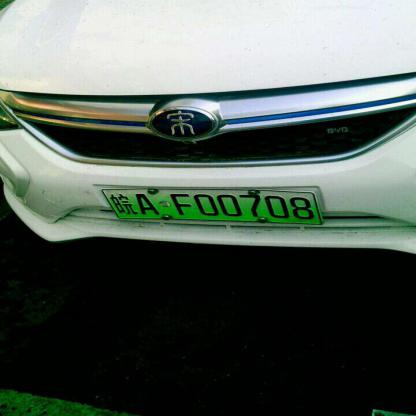lp: (102, 189, 322, 223)
